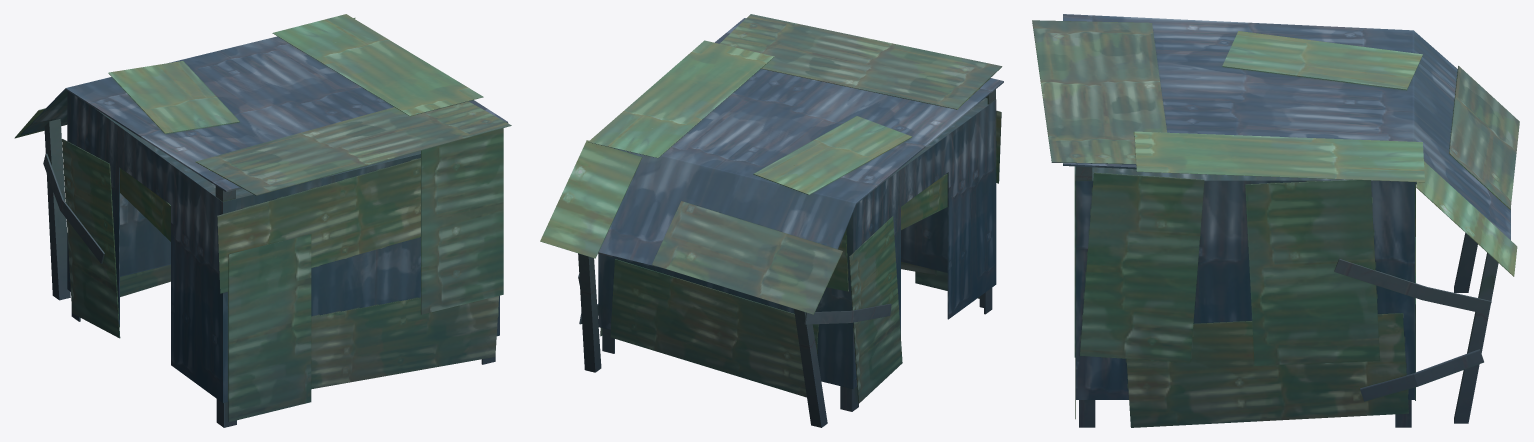
The model's file is building 1.glb.
3 renders of one model, left to right at view 1: azimuth 30°, elevation 25°; view 2: azimuth 150°, elevation 25°; view 3: azimuth 270°, elevation 25°, orthographic. The views are drawn at different scales.
Parts seen in each view (by area): view 1: pCube1, pCube12, pCube6, pCube7, pCube10, pCube8, pCube18, pCube23, pCube2, pCube22, pCube13, pCube3 (+3 smaller); view 2: pCube12, pCube1, pCube4, pCube18, pCube20, pCube23, pCube2, pCube21, pCube22, pCube14, pCube13, pCube3 (+4 smaller); view 3: pCube12, pCube17, pCube15, pCube16, pCube1, pCube18, pCube23, pCube22, pCube20, pCube21, pCube26, pCube14 (+3 smaller).
Boxes of the visible parts, x1,y1,x2,y2 form: pCube1: (67,91,499,402); pCube12: (21,36,507,192); pCube6: (228,234,311,421); pCube7: (421,128,503,314); pCube10: (217,158,420,293); pCube8: (311,296,498,389); pCube18: (196,101,511,195); pCube23: (272,14,483,115); pCube2: (62,139,120,338); pCube22: (108,61,239,133); pCube13: (44,119,70,300); pCube3: (120,168,170,241); pCube12: (598,18,1003,274); pCube1: (598,98,996,388); pCube4: (610,259,818,397); pCube18: (719,14,1002,109); pCube20: (652,201,842,314); pCube23: (588,40,774,157); pCube2: (849,216,902,403); pCube21: (540,140,642,258); pCube22: (753,116,911,194); pCube14: (578,253,601,372); pCube13: (794,309,827,427); pCube3: (901,173,947,229); pCube12: (1063,14,1510,239); pCube17: (1245,180,1379,365); pCube15: (1080,172,1204,362); pCube16: (1126,313,1408,427); pCube1: (1075,166,1414,399); pCube18: (1032,20,1166,164); pCube23: (1134,131,1424,182); pCube22: (1222,31,1422,90); pCube20: (1449,66,1519,209); pCube21: (1416,161,1517,276); pCube26: (1334,258,1491,314); pCube14: (1454,252,1498,423).
Bounding box in the file's own units: 3.97 × 3.07 × 5.06.
Materials: 1 (1 with a texture image).
